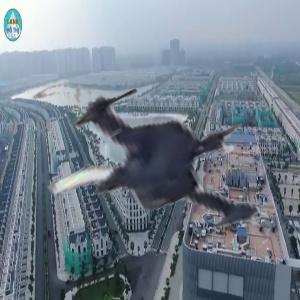drone: (13, 35, 279, 300)
